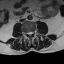CCS_normal: (29, 30, 30, 37)
LFS_normal: (32, 30, 34, 35)
LLS_normal: (30, 30, 32, 36)
RFS_normal: (26, 30, 28, 36)
RLS_normal: (27, 30, 29, 36)
